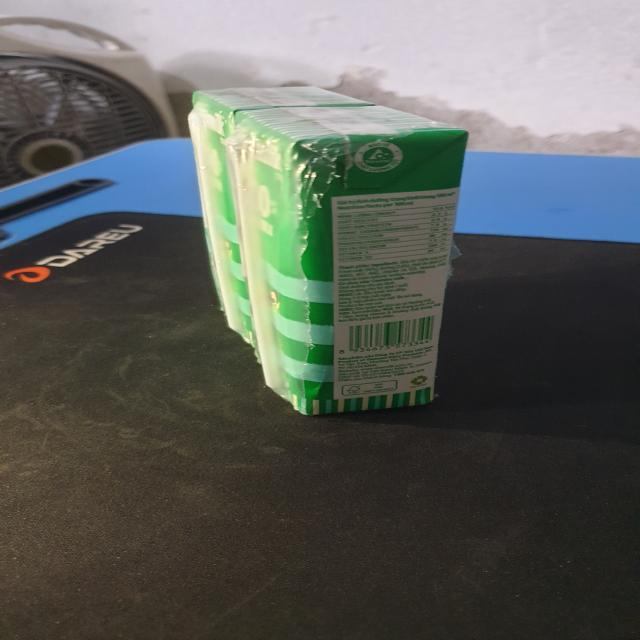Vina: (231, 105, 467, 414), (190, 87, 375, 351)
